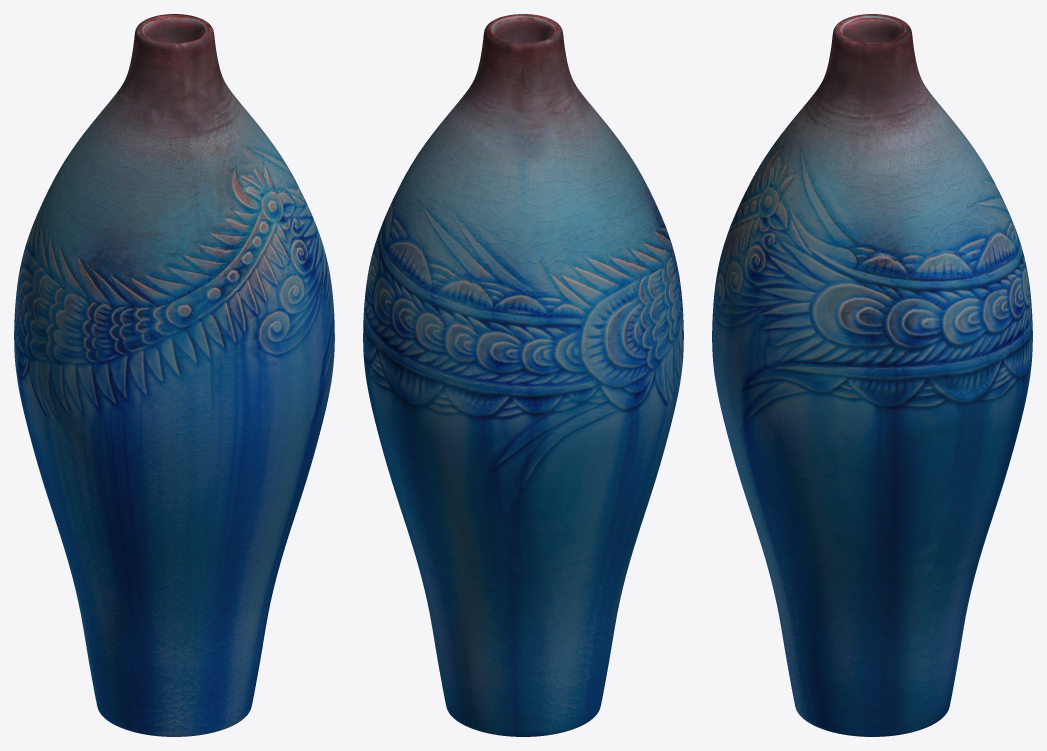
3 renders of one model, left to right at view 1: azimuth 30°, elevation 25°; view 2: azimuth 150°, elevation 25°; view 3: azimuth 270°, elevation 25°, orthographic.
Parts seen in each view (by area): view 1: 7.obj; view 2: 7.obj; view 3: 7.obj.
Boxes of the visible parts, box(x1,y1,x2,y2) form: 7.obj: box(14, 14, 334, 736); 7.obj: box(363, 14, 683, 736); 7.obj: box(712, 14, 1032, 736).
Bounding box in the file's own units: 0.6505 × 1.51 × 0.6505.
1 material, 1 textured.
